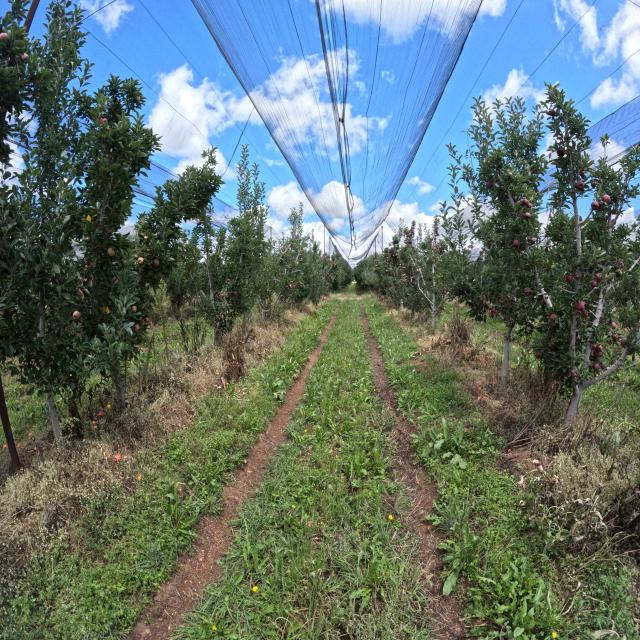-FireBlight-: (489, 305, 501, 319)
